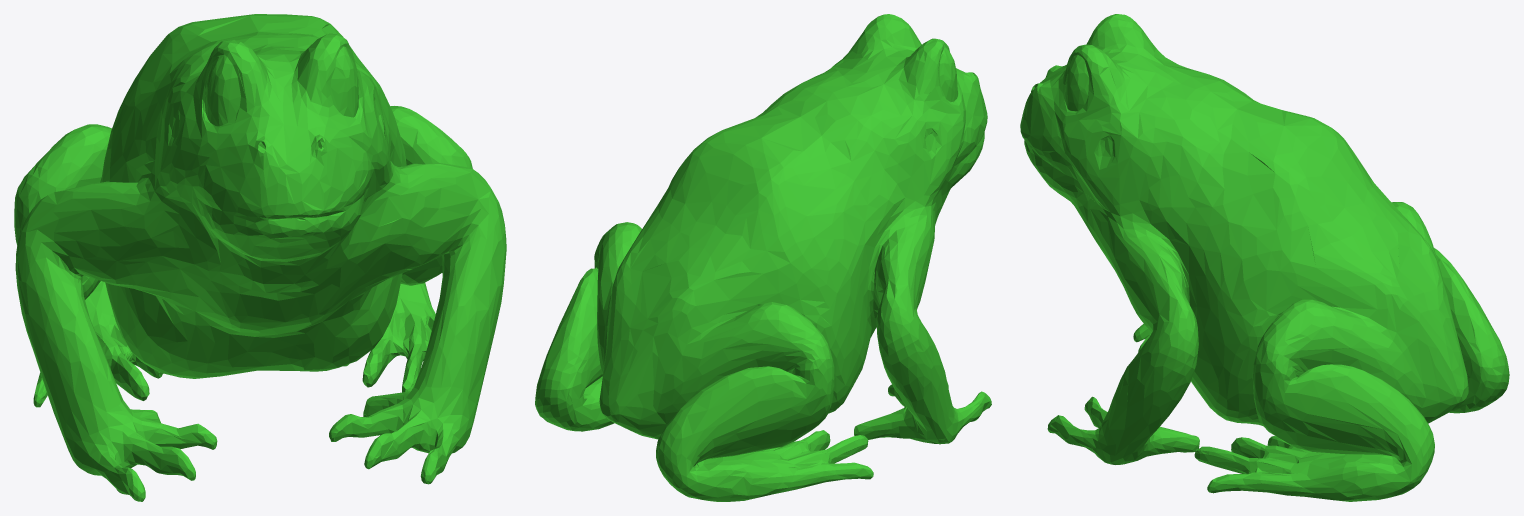
File: Froggy.glb
The picture shows the model from 3 angles, left to right: view 1: azimuth 30°, elevation 25°; view 2: azimuth 150°, elevation 25°; view 3: azimuth 270°, elevation 25°; orthographic projection. The views are drawn at different scales.
Parts seen in each view (by area): view 1: Mesh_Mesh_head_geo.001_lambert2SG.001; view 2: Mesh_Mesh_head_geo.001_lambert2SG.001; view 3: Mesh_Mesh_head_geo.001_lambert2SG.001.
Part boxes in pixels (x1,y1,x2,y2): Mesh_Mesh_head_geo.001_lambert2SG.001: [14, 14, 506, 501]; Mesh_Mesh_head_geo.001_lambert2SG.001: [535, 14, 991, 501]; Mesh_Mesh_head_geo.001_lambert2SG.001: [1020, 14, 1509, 501].
Size of the model in its own units: 0.0492 by 0.049 by 0.0593.
